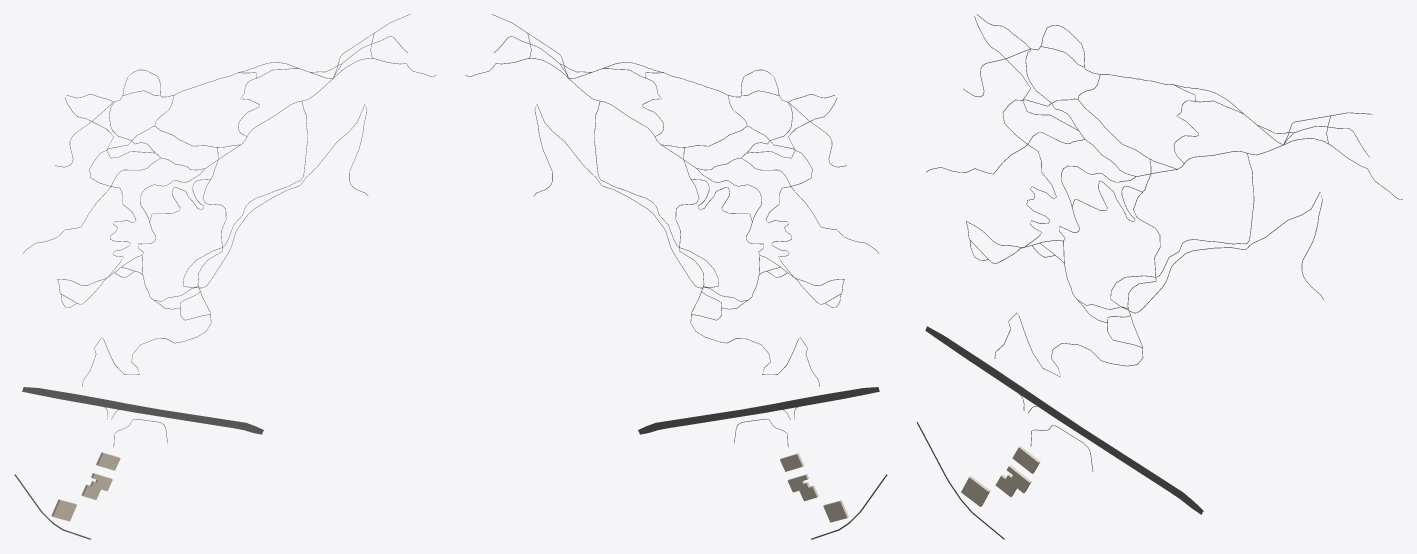
Rendered from historic-palestine-11_32_3525_3269.glb.
3 views of the same model, side by side, from view 1: azimuth 30°, elevation 25°; view 2: azimuth 150°, elevation 25°; view 3: azimuth 330°, elevation 25° (orthographic). The views are drawn at different scales.
Parts seen in each view (by area): view 1: Road כביש חיפה-נצרת.001, Road כביש חיפה-נצרת; view 2: Road כביש חיפה-נצרת, Road כביש חיפה-נצרת.001; view 3: Road כביש חיפה-נצרת, Road כביש חיפה-נצרת.001, Building_.002, Road .013.
Part boxes in pixels (x1,y1,x2,y2): Road כביש חיפה-נצרת.001: [22, 387, 263, 434]; Road כביש חיפה-נצרת: [22, 387, 263, 432]; Road כביש חיפה-נצרת: [638, 387, 879, 434]; Road כביש חיפה-נצרת.001: [639, 387, 879, 434]; Road כביש חיפה-נצרת: [925, 326, 1203, 514]; Road כביש חיפה-נצרת.001: [925, 327, 1203, 514]; Building_.002: [995, 465, 1031, 497]; Road .013: [1063, 192, 1323, 313].
Size of the model in its own units: 1153 by 1196 by 8.7.
